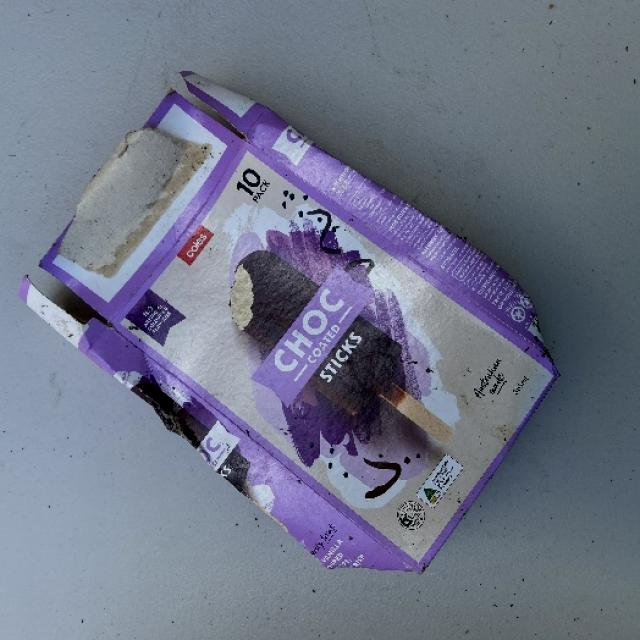kertas: (15, 89, 560, 582)
